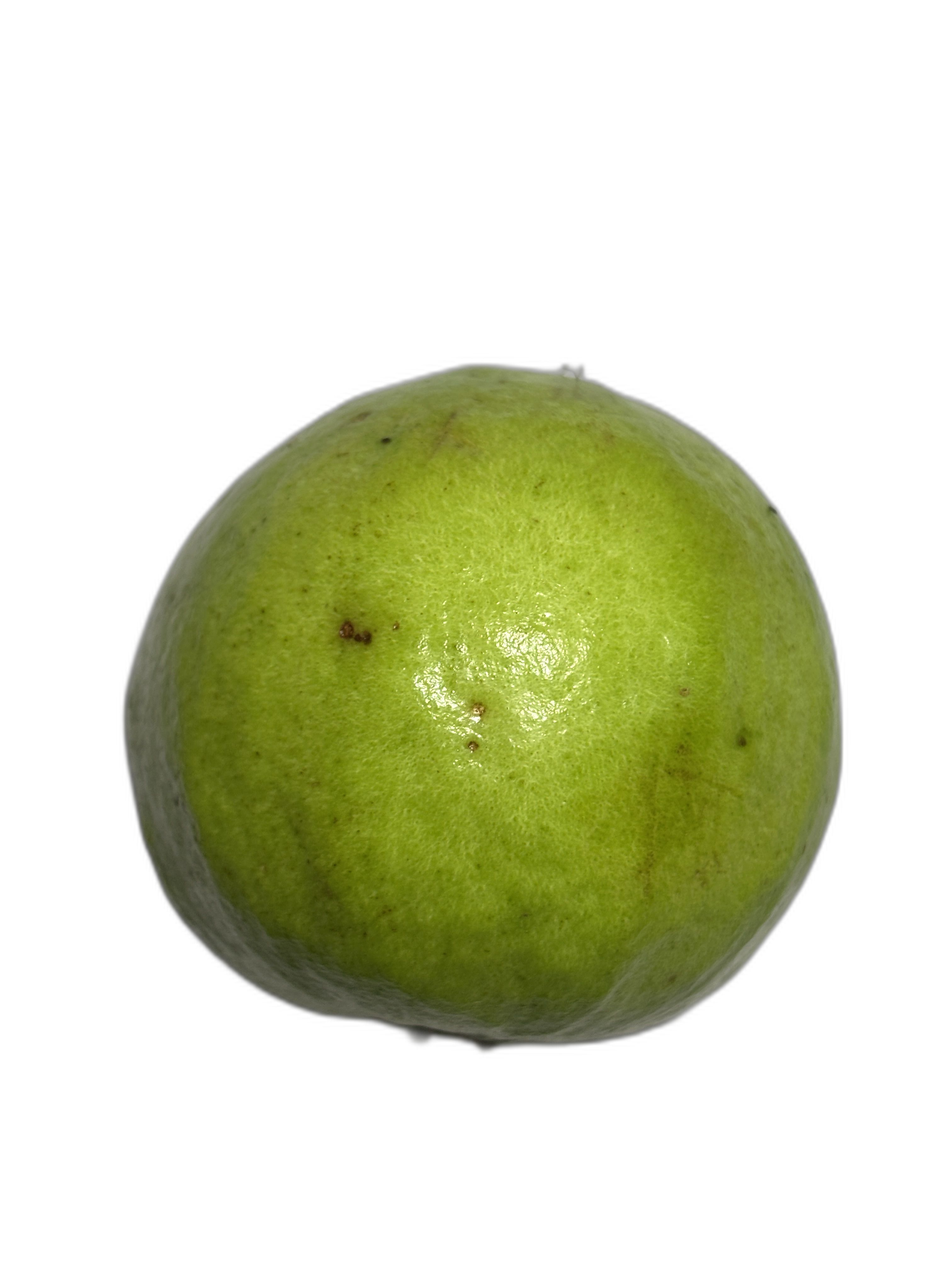guava: (61, 50, 830, 1176)
